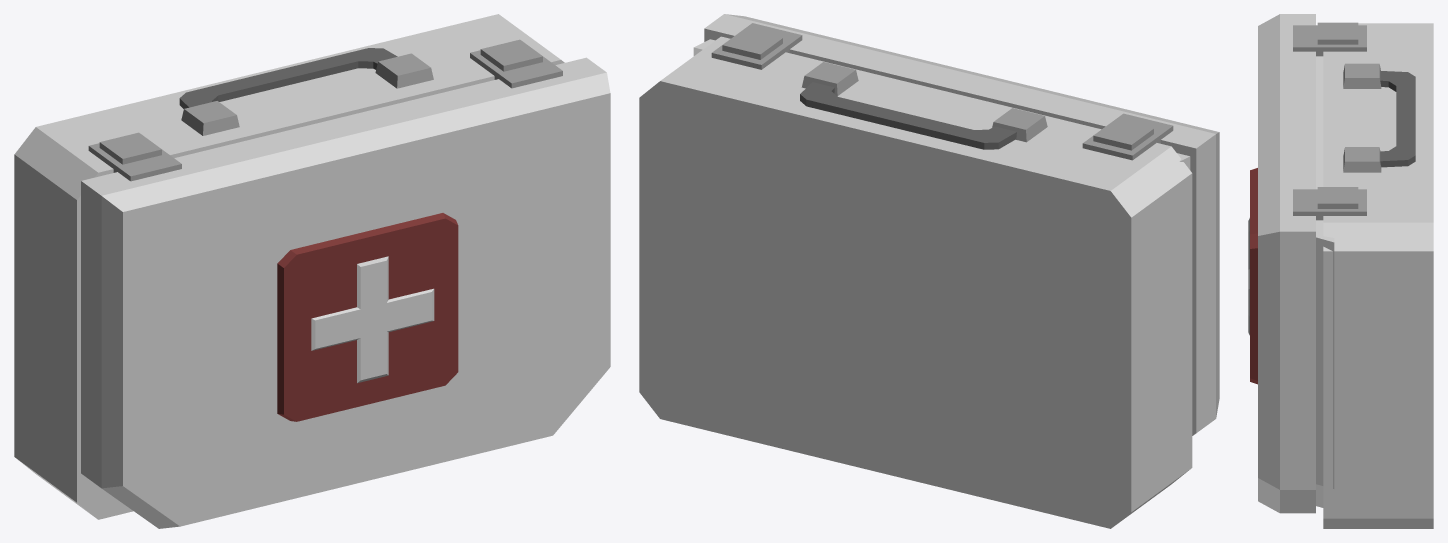
The model's file is firstaidkit_hard.glb.
The picture shows the model from 3 angles, left to right: view 1: azimuth 30°, elevation 25°; view 2: azimuth 150°, elevation 25°; view 3: azimuth 270°, elevation 25°; orthographic projection. The views are drawn at different scales.
Parts seen in each view (by area): view 1: FirstAidKit_Hard; view 2: FirstAidKit_Hard; view 3: FirstAidKit_Hard.
Part boxes in pixels (box(x1,y1,x2,y2)): FirstAidKit_Hard: box(14, 14, 610, 528); FirstAidKit_Hard: box(639, 14, 1219, 528); FirstAidKit_Hard: box(1248, 14, 1433, 528).
Size of the model in its own units: 1.88 by 1.28 by 0.677.
